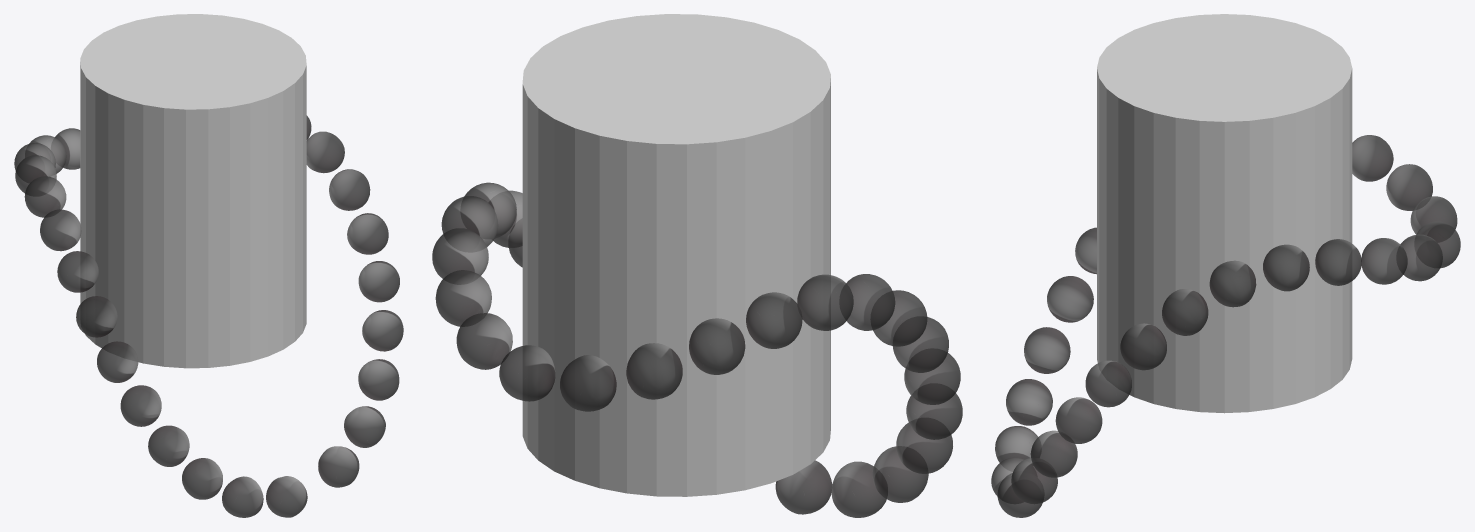
File: necklace.draco.glb
3 views of the same model, side by side, from view 1: azimuth 30°, elevation 25°; view 2: azimuth 150°, elevation 25°; view 3: azimuth 270°, elevation 25° (orthographic). The views are drawn at different scales.
Visible parts, largest first — view 1: neck_helper, lace; view 2: neck_helper, lace; view 3: neck_helper, lace.
Boxes of the visible parts, bbox=[...] form: neck_helper: bbox=[80, 14, 306, 368]; lace: bbox=[14, 115, 403, 517]; neck_helper: bbox=[522, 14, 830, 496]; lace: bbox=[432, 182, 962, 517]; neck_helper: bbox=[1097, 14, 1352, 413]; lace: bbox=[991, 135, 1460, 517].
Bounding box in the file's own units: 2.32 × 2.72 × 2.67.
2 materials, 1 textured.
